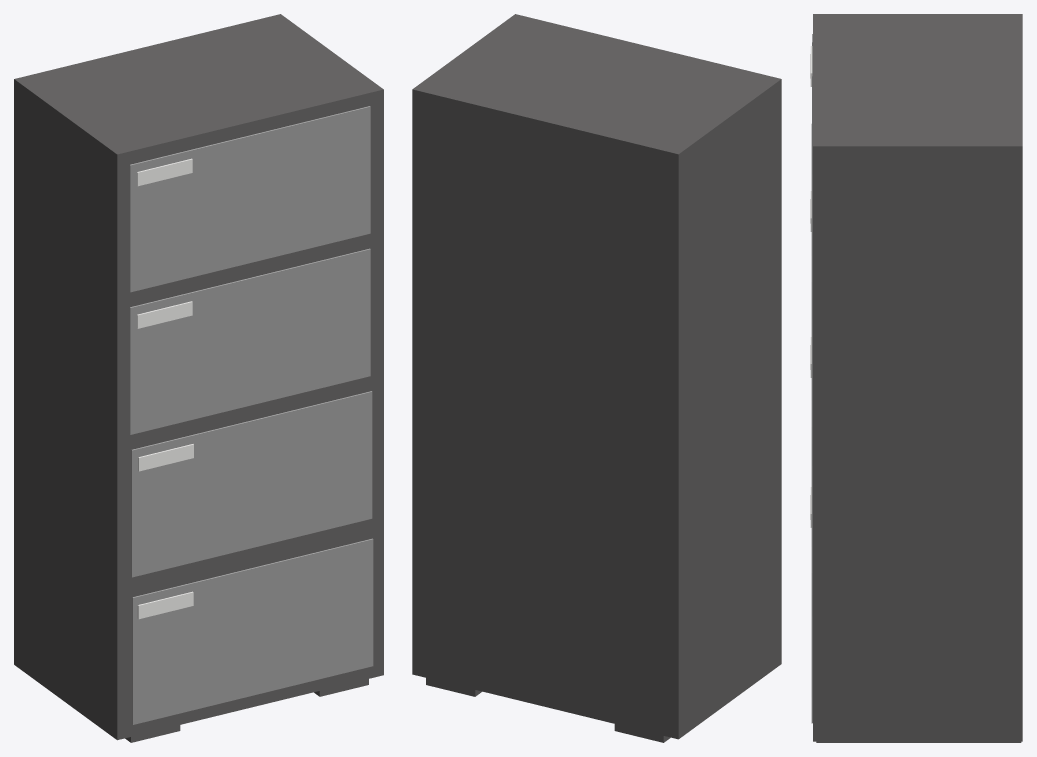
The model's file is Shelf_3.fbx.
3 views of the same model, side by side, from view 1: azimuth 30°, elevation 25°; view 2: azimuth 150°, elevation 25°; view 3: azimuth 270°, elevation 25° (orthographic).
Parts seen in each view (by area): view 1: Shelf_3; view 2: Shelf_3; view 3: Shelf_3.
Part boxes in pixels (box(x1,y1,x2,y2)): Shelf_3: box(14, 14, 383, 742); Shelf_3: box(412, 14, 781, 742); Shelf_3: box(810, 14, 1022, 742).
Bounding box in the file's own units: 120 × 81.45 × 256.
